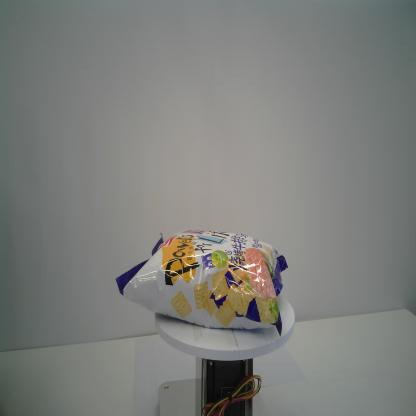Puffed Food: (114, 228, 290, 338)
